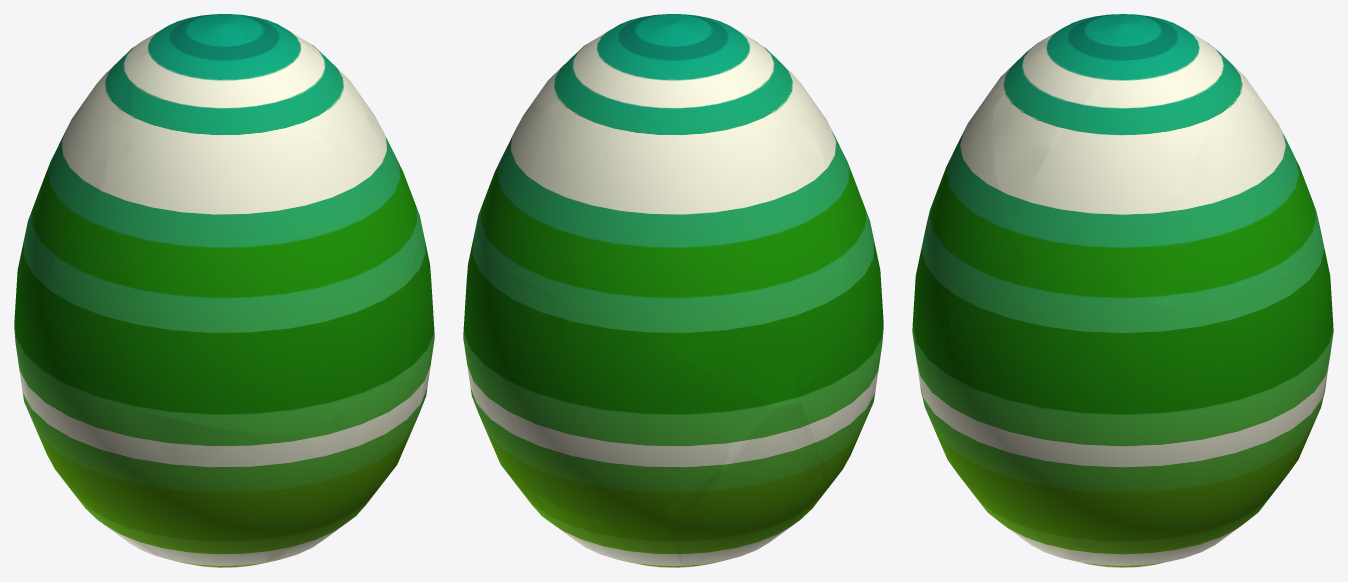
File: Egg_Common_Rare.fbx
The picture shows the model from 3 angles, left to right: view 1: azimuth 30°, elevation 25°; view 2: azimuth 150°, elevation 25°; view 3: azimuth 270°, elevation 25°; orthographic projection.
Parts seen in each view (by area): view 1: Egg_1, Egg_1_cell.003, Egg_1_cell.010, Egg_1_cell, Egg_1_cell.007, Egg_1_cell.012, Egg_1_cell.009, Egg_1_cell.008, Egg_1_cell.005; view 2: Egg_1, Egg_1_cell.010, Egg_1_cell.002, Egg_1_cell.008, Egg_1_cell.013, Egg_1_cell.003, Egg_1_cell.014, Egg_1_cell.004, Egg_1_cell; view 3: Egg_1, Egg_1_cell.002, Egg_1_cell, Egg_1_cell.009, Egg_1_cell.012, Egg_1_cell.007, Egg_1_cell.013.
Boxes of the visible parts, <box> form: Egg_1: <box>14,14,434,567</box>; Egg_1_cell.003: <box>33,345,309,567</box>; Egg_1_cell.010: <box>14,49,138,332</box>; Egg_1_cell: <box>238,15,393,181</box>; Egg_1_cell.007: <box>271,407,395,560</box>; Egg_1_cell.012: <box>393,249,427,412</box>; Egg_1_cell.009: <box>248,17,408,200</box>; Egg_1_cell.008: <box>14,328,221,567</box>; Egg_1_cell.005: <box>214,14,247,128</box>; Egg_1: <box>463,15,883,567</box>; Egg_1_cell.010: <box>634,84,843,405</box>; Egg_1_cell.002: <box>474,102,617,306</box>; Egg_1_cell.008: <box>664,396,820,567</box>; Egg_1_cell.013: <box>583,42,730,138</box>; Egg_1_cell.003: <box>810,319,883,510</box>; Egg_1_cell.014: <box>546,305,774,460</box>; Egg_1_cell.004: <box>506,466,601,552</box>; Egg_1_cell: <box>620,14,716,32</box>; Egg_1: <box>912,14,1333,567</box>; Egg_1_cell.002: <box>1112,94,1321,321</box>; Egg_1_cell: <box>992,31,1146,222</box>; Egg_1_cell.009: <box>1010,42,1213,272</box>; Egg_1_cell.012: <box>932,266,1046,438</box>; Egg_1_cell.007: <box>914,345,1092,560</box>; Egg_1_cell.013: <box>1183,28,1249,107</box>.
Size of the model in its own units: 228 by 228 by 312.
